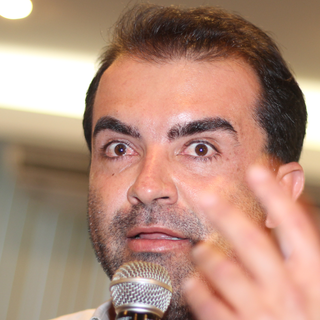eye: (177, 138, 225, 163), (100, 136, 139, 162)
